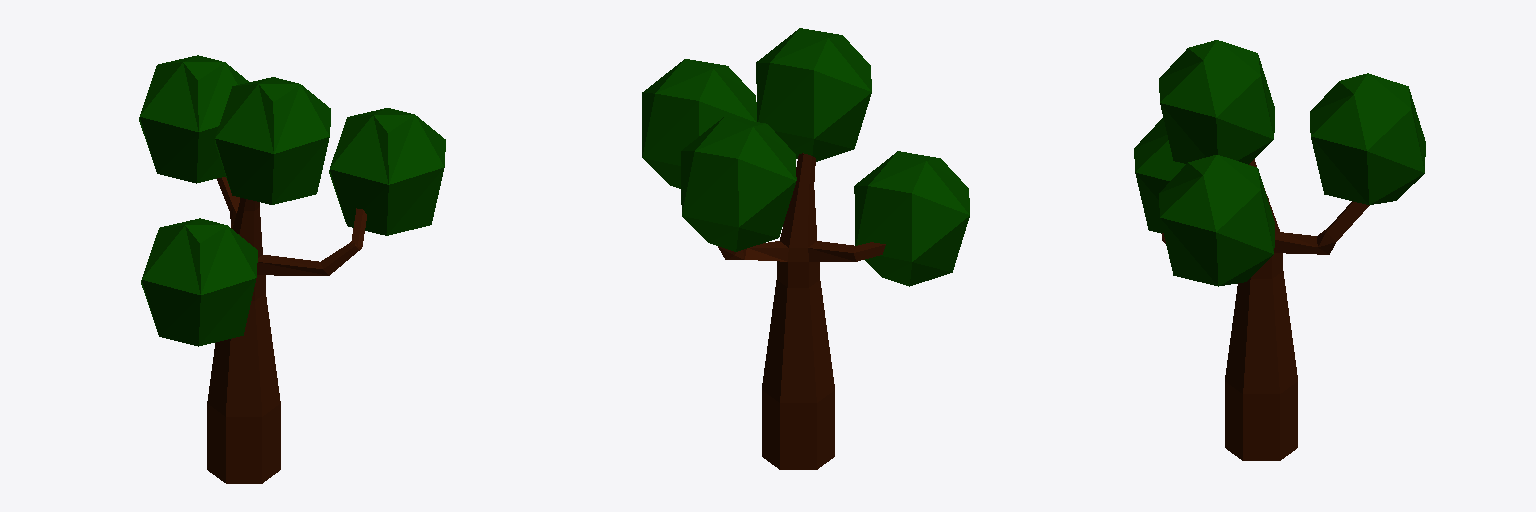
File: exemple.obj
The picture shows the model from 3 angles: view 1: azimuth 30°, elevation 25°; view 2: azimuth 150°, elevation 25°; view 3: azimuth 270°, elevation 25°; orthographic projection.
Visible parts, largest first — view 1: Cylinder, Sphere.003, Sphere, Sphere.001, Sphere.002; view 2: Cylinder, Sphere.002, Sphere.003, Sphere, Sphere.001; view 3: Cylinder, Sphere.001, Sphere.002, Sphere, Sphere.003.
Part boxes in pixels (bbox=[...]): Cylinder: bbox=[207, 177, 366, 483]; Sphere.003: bbox=[141, 218, 257, 346]; Sphere: bbox=[215, 77, 330, 204]; Sphere.001: bbox=[329, 108, 445, 235]; Sphere.002: bbox=[139, 55, 248, 183]; Cylinder: bbox=[718, 153, 885, 469]; Sphere.002: bbox=[681, 117, 796, 251]; Sphere.003: bbox=[854, 151, 969, 286]; Sphere: bbox=[756, 28, 871, 161]; Sphere.001: bbox=[642, 59, 756, 188]; Cylinder: bbox=[1162, 159, 1369, 460]; Sphere.001: bbox=[1159, 155, 1274, 286]; Sphere.002: bbox=[1310, 73, 1425, 204]; Sphere: bbox=[1159, 40, 1274, 164]; Sphere.003: bbox=[1134, 118, 1185, 233].
Size of the model in its own units: 5.44 by 6.64 by 4.35.